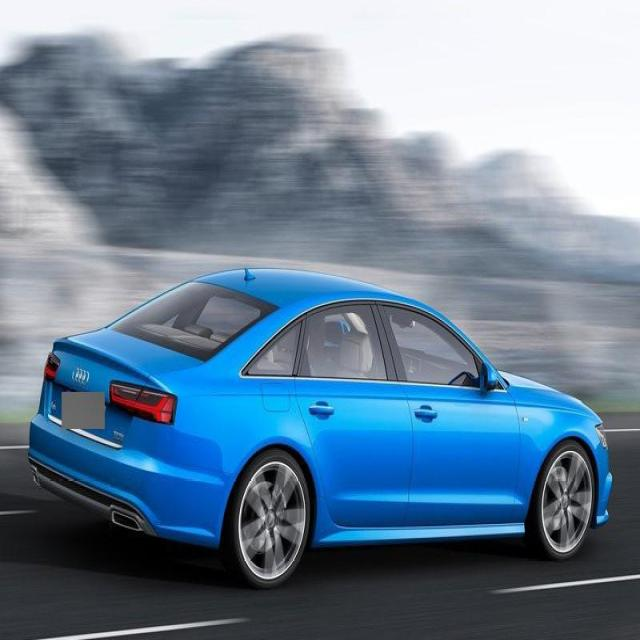back_glass: (102, 279, 268, 363)
back_left_side_light: (43, 351, 62, 386)
back_right_side_light: (108, 379, 178, 426)
door: (298, 299, 412, 536)
front_right_side_door: (379, 300, 522, 530)
front_right_side_light: (596, 420, 610, 452)
front_right_side_mirror: (482, 365, 500, 393)
rear_bumper: (29, 413, 222, 548)
wheel: (232, 446, 311, 587), (539, 449, 596, 560)
